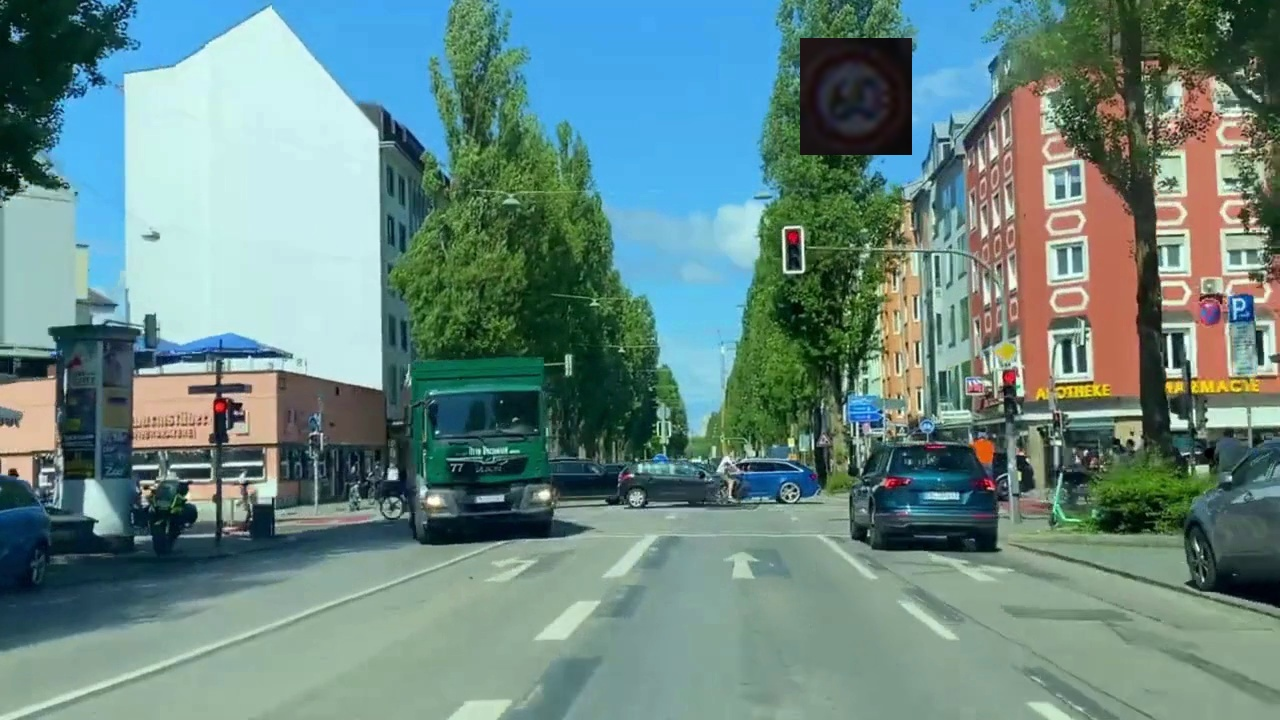Speed 60: (800, 38, 912, 155)
